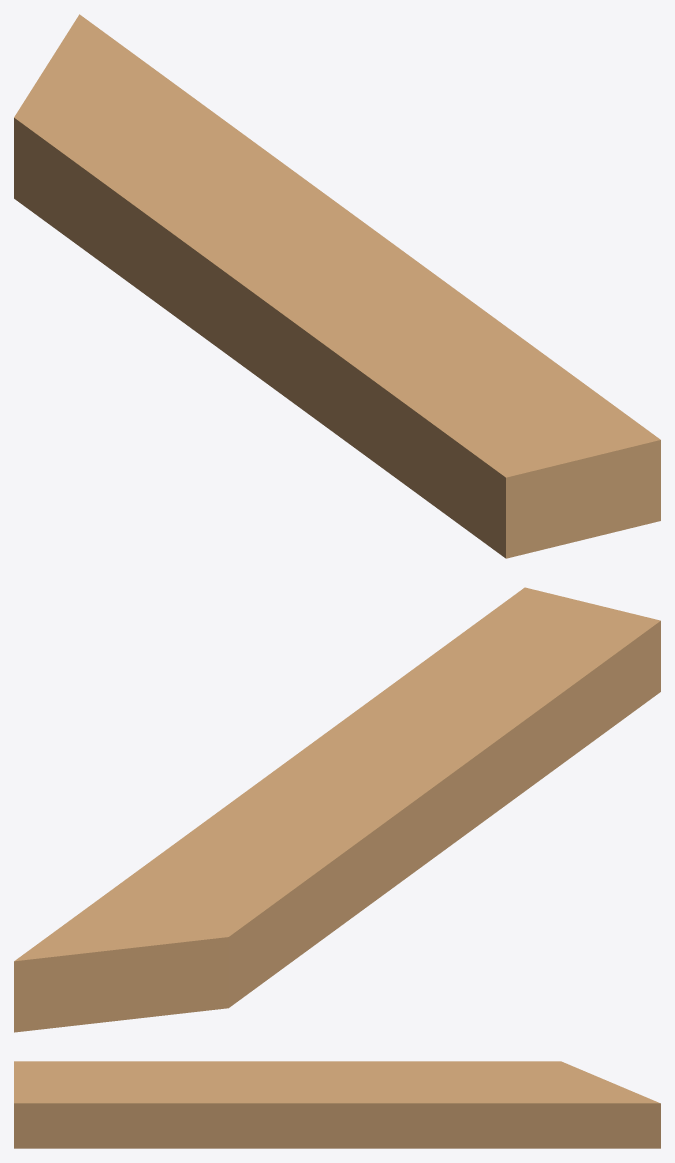
Rendered from lumber_board_cut.gltf.glb.
3 views of the same model, one above another, from view 1: azimuth 30°, elevation 25°; view 2: azimuth 150°, elevation 25°; view 3: azimuth 270°, elevation 25° (orthographic). The views are drawn at different scales.
Visible parts, largest first — view 1: lumber_board_cut; view 2: lumber_board_cut; view 3: lumber_board_cut.
Boxes of the visible parts, x1,y1,x2,y2 form: lumber_board_cut: (14, 14, 660, 558); lumber_board_cut: (14, 587, 660, 1032); lumber_board_cut: (14, 1061, 660, 1148).
Size of the model in its own units: 0.2 by 0.1 by 1.3.
